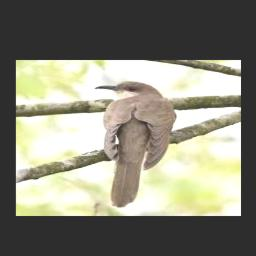Cuckoo: (95, 81, 176, 207)
